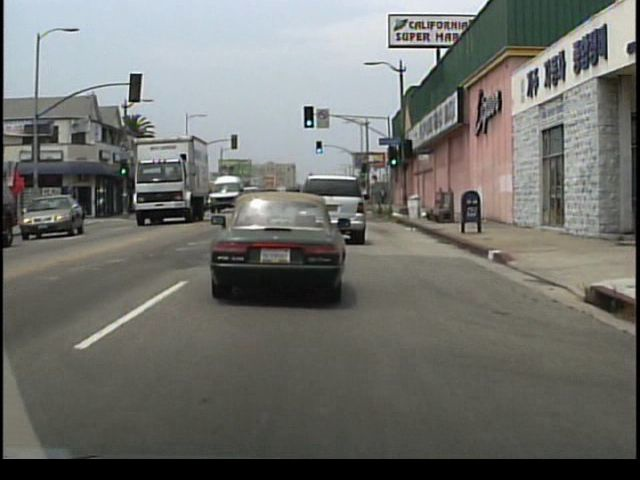person: (47, 197, 59, 230), (378, 188, 388, 208)
